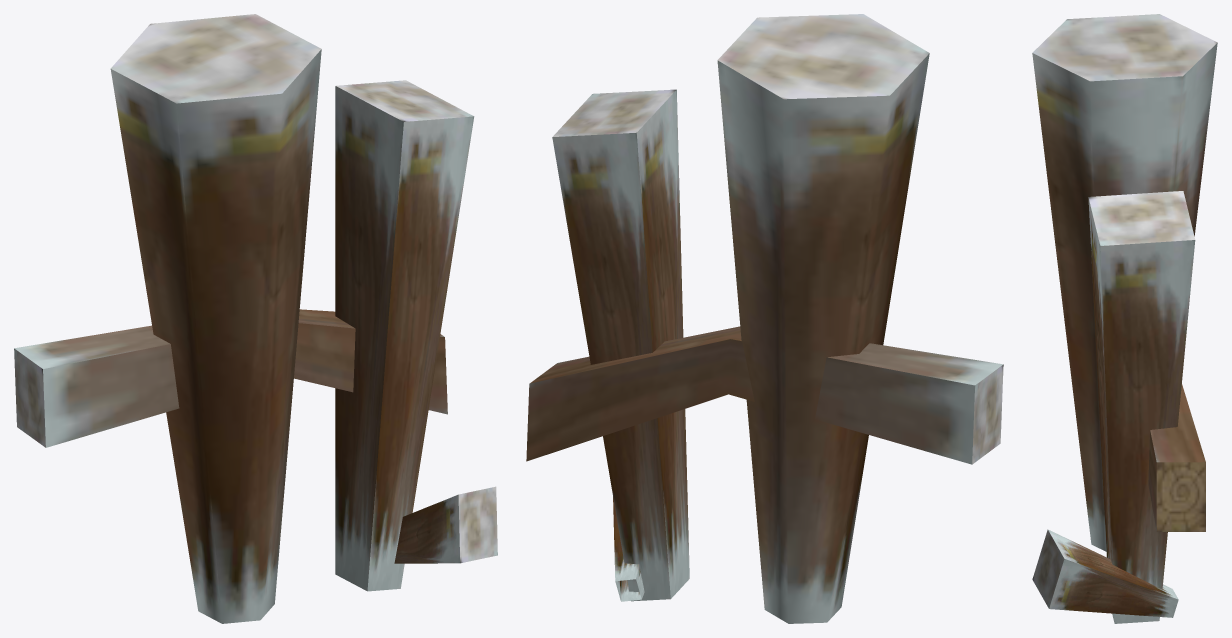
The model's file is h5_xuezhalan_d.FBX.
The picture shows the model from 3 angles, left to right: view 1: azimuth 30°, elevation 25°; view 2: azimuth 150°, elevation 25°; view 3: azimuth 270°, elevation 25°; orthographic projection. The views are drawn at different scales.
Parts seen in each view (by area): view 1: h5_xuezhalan_d; view 2: h5_xuezhalan_d; view 3: h5_xuezhalan_d.
Boxes of the visible parts, x1,y1,x2,y2 form: h5_xuezhalan_d: [14, 14, 497, 623]; h5_xuezhalan_d: [526, 14, 1003, 623]; h5_xuezhalan_d: [1032, 14, 1217, 623].
Bounding box in the file's own units: 1.14 × 1.46 × 0.4876.
